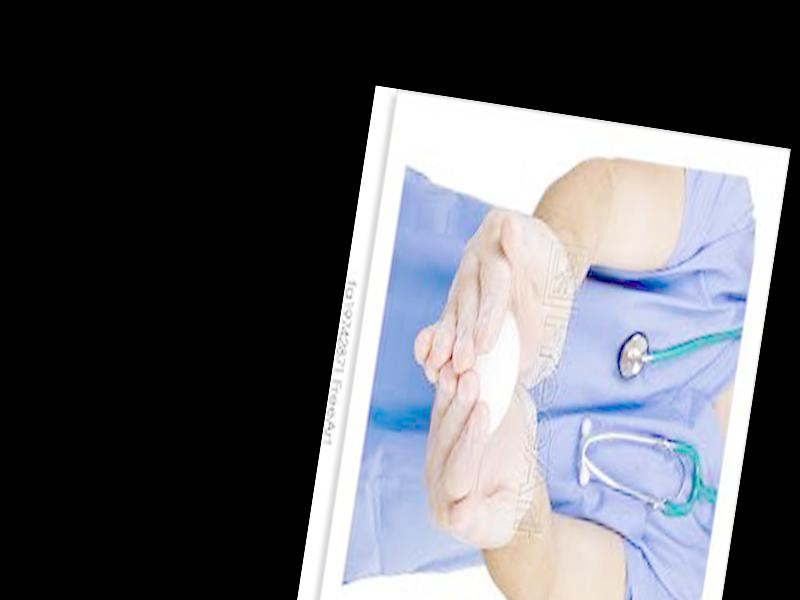Eggs: (460, 310, 526, 437)
